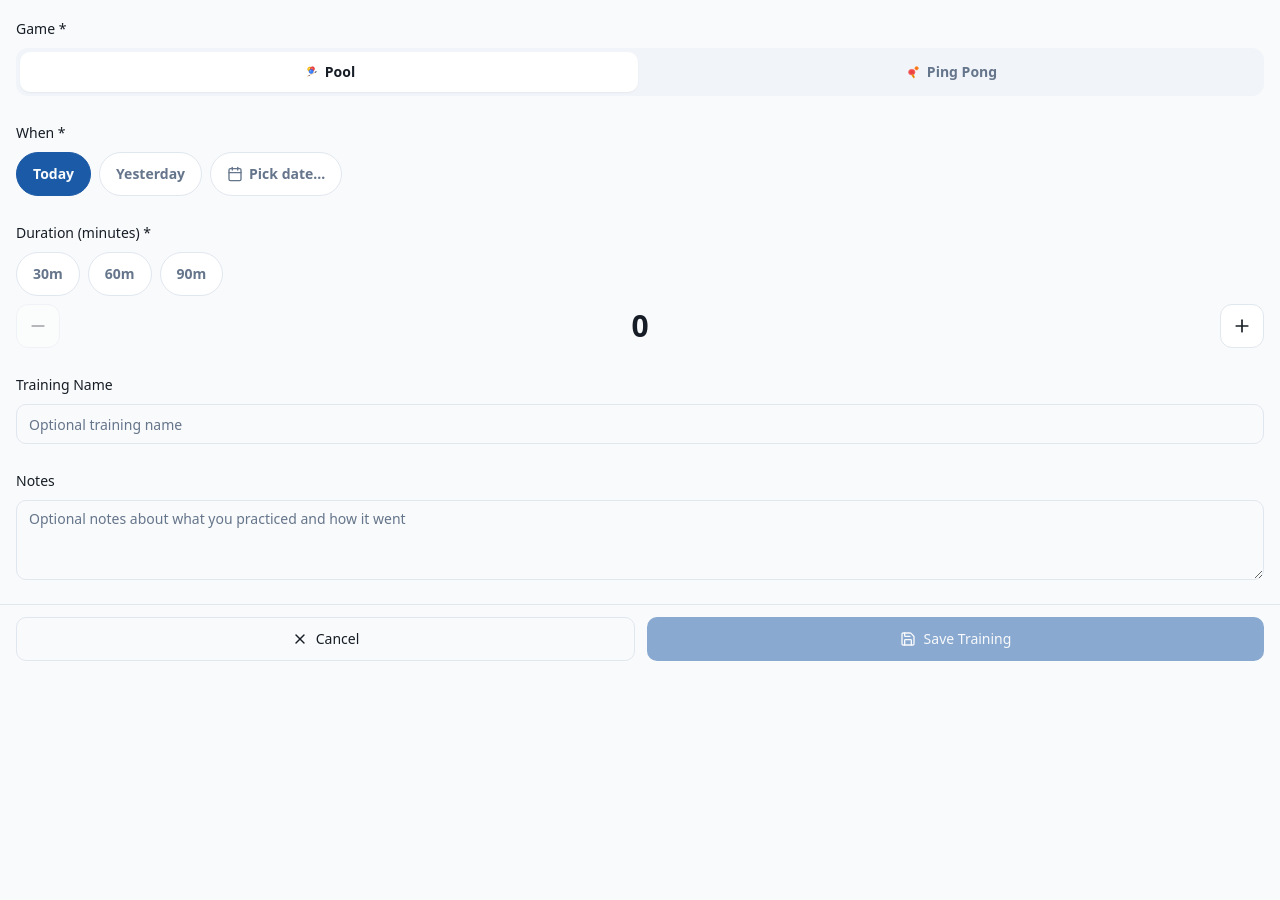
Test case: Training forms › disables saving until a duration is set
Expected: the button "Save Training" is disabled, x1=647 y1=617 x2=1264 y2=661
What coordinates should you click on to do the following:
click the button "90m"
I would click on:
 (192, 274)
Its box is x1=160 y1=252 x2=223 y2=296.
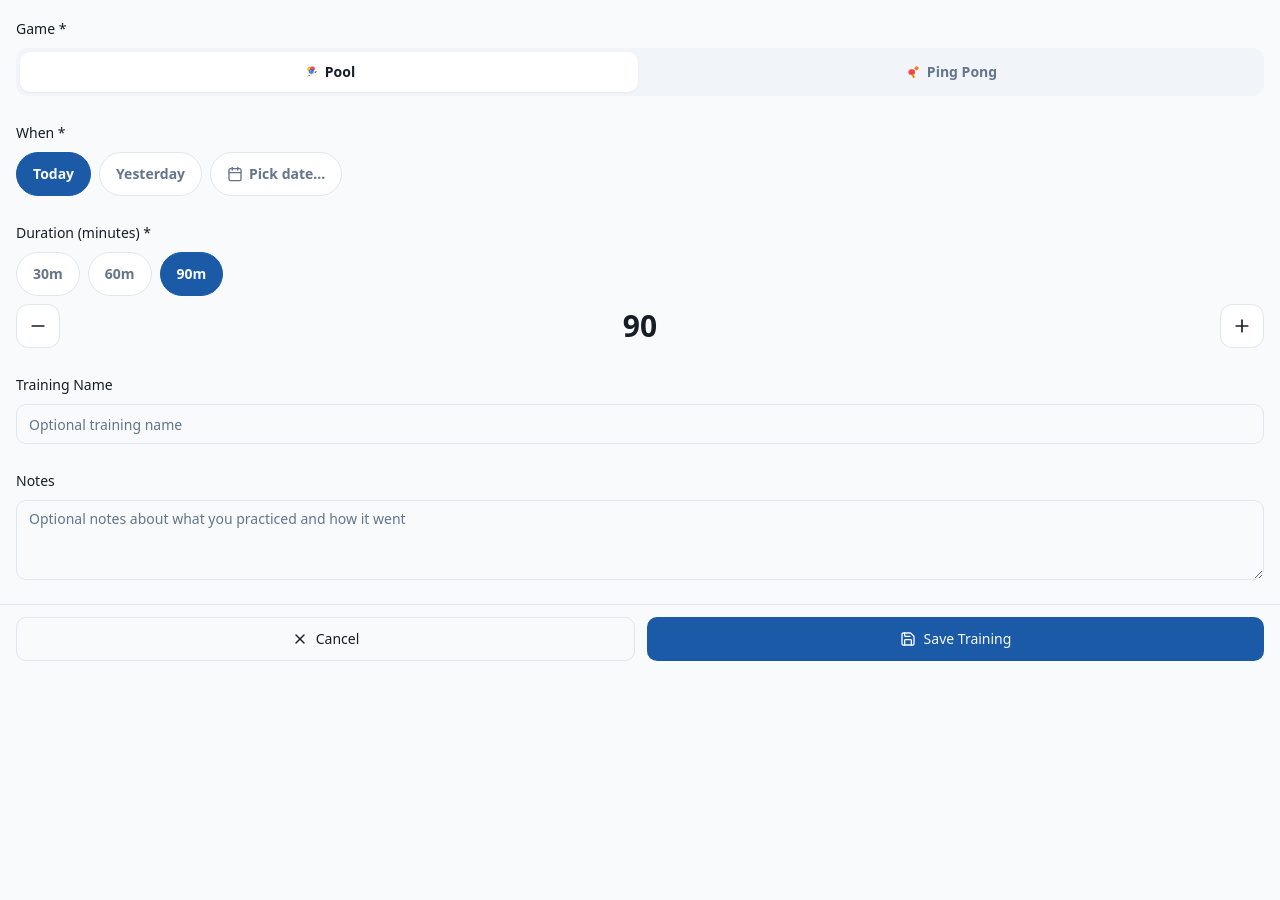
Expected: the button "Save Training" is enabled, x1=647 y1=617 x2=1264 y2=661
